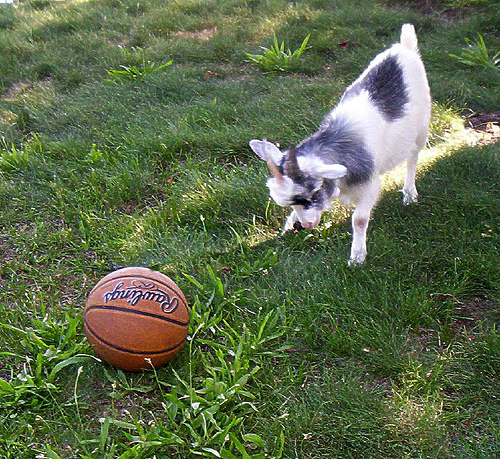basketball: (84, 266, 190, 371)
